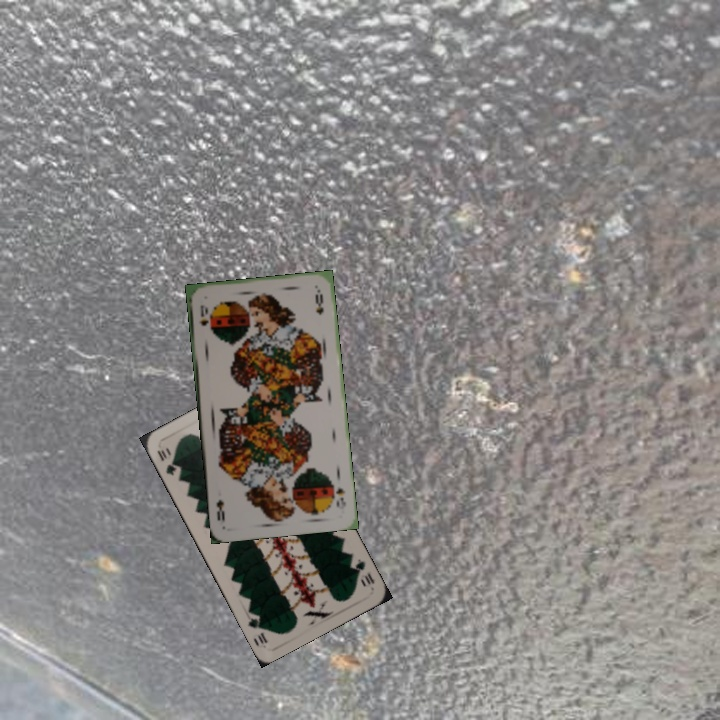G10: (350, 555, 377, 589), (153, 446, 180, 478)
SO: (330, 479, 348, 512), (195, 301, 211, 328)
